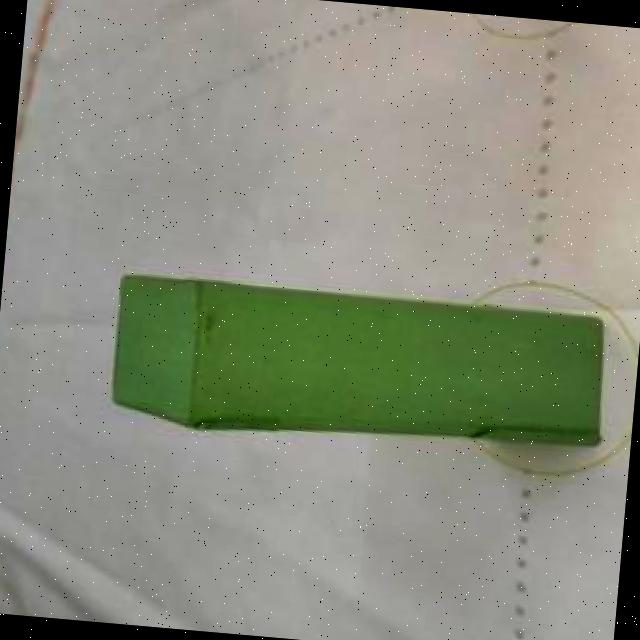greenbox: (106, 265, 616, 470)
